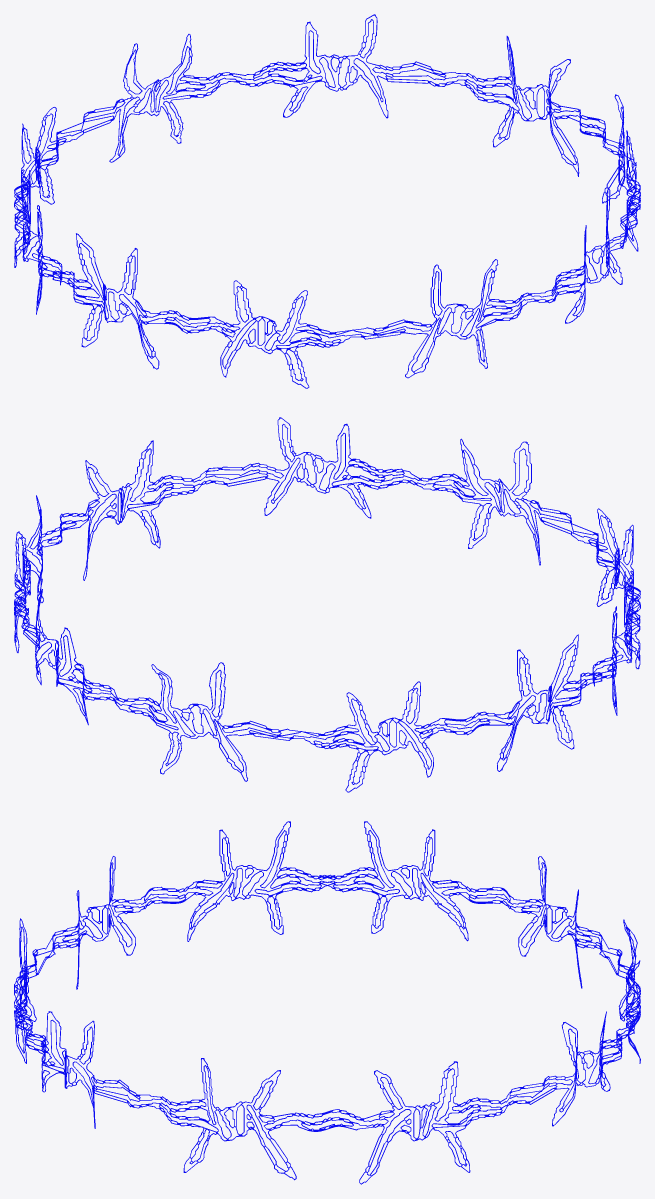
3 renders of one model, top to bottom at view 1: azimuth 30°, elevation 25°; view 2: azimuth 150°, elevation 25°; view 3: azimuth 270°, elevation 25°, orthographic.
Size of the model in its own units: 2.04 by 0.4443 by 2.04.
